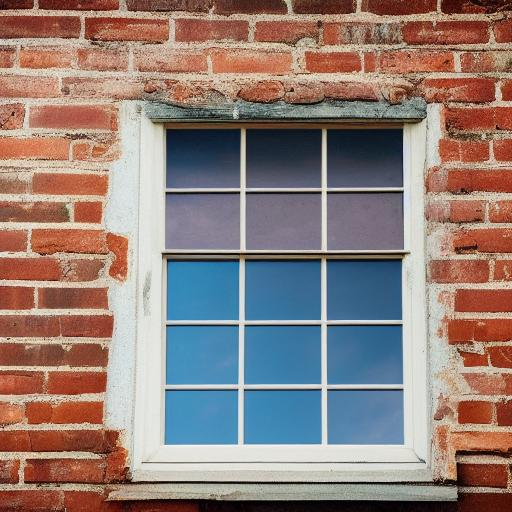Window: (102, 101, 453, 512)
